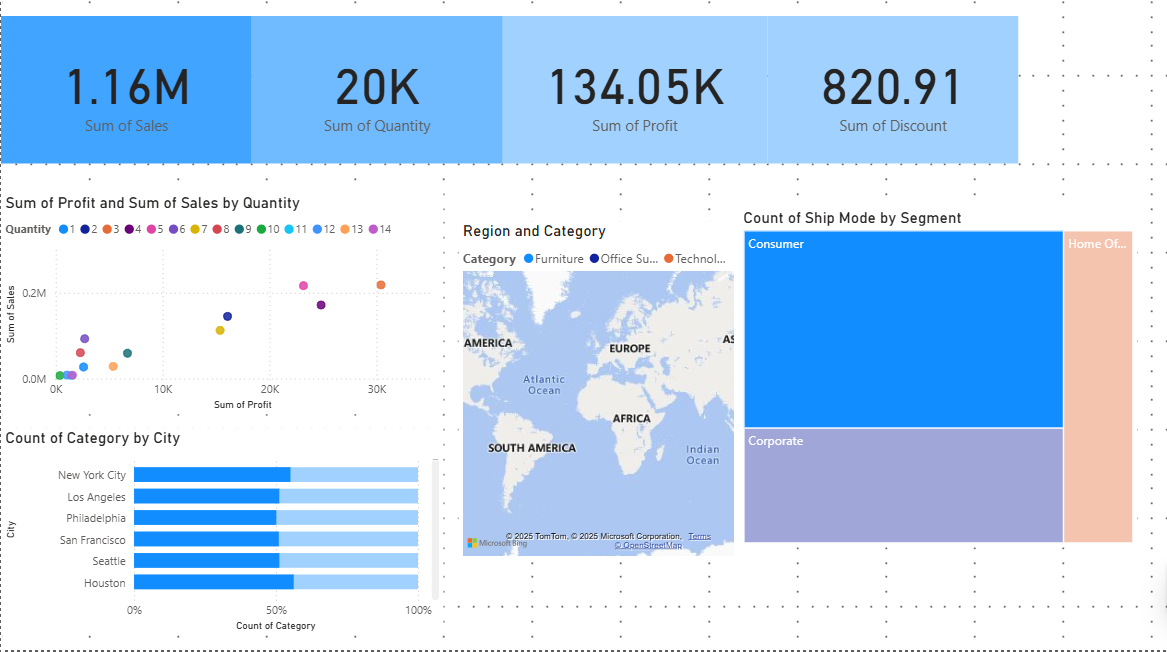

This screenshot's page, from the dashboard's own definition file:
{"tool":"powerbi","page":{"name":"Page 1","canvas":[1280,720],"ordinal":0},"visuals":[{"type":"card","fields":{"Values":["Sum(SampleSuperstore.Sales)"]},"box":[0,32,272,160],"z":0},{"type":"card","fields":{"Values":["Sum(SampleSuperstore.Profit)"]},"box":[544,32,288,160],"z":1},{"type":"card","fields":{"Values":["Sum(SampleSuperstore.Discount)"]},"box":[832,32,272,160],"z":2},{"type":"card","fields":{"Values":["Sum(SampleSuperstore.Quantity)"]},"box":[272,32,272,160],"z":3},{"type":"scatterChart","fields":{"X":["Sum(SampleSuperstore.Profit)"],"Y":["Sum(SampleSuperstore.Sales)"],"Series":["SampleSuperstore.Quantity"]},"box":[0,224,480,240],"z":4},{"type":"hundredPercentStackedBarChart","fields":{"Y":["CountNonNull(SampleSuperstore.Category)"],"Category":["SampleSuperstore.City"]},"box":[0,480,480,224],"z":5},{"type":"filledMap","fields":{"Category":["SampleSuperstore.Region"],"Series":["SampleSuperstore.Category"]},"box":[496,256,304,368],"z":6},{"type":"treemap","fields":{"Group":["SampleSuperstore.Segment"],"Values":["CountNonNull(SampleSuperstore.Ship Mode)","select"]},"box":[800,240,432,368],"z":7}]}

Visuals, with their boxes in screenshot pixels (x1, y1, x2, y2), scaled from the page's 1280x720 canvas onto the 1167x652 screenshot:
card - Sum(SampleSuperstore.Sales): select_region(0, 29, 248, 174)
card - Sum(SampleSuperstore.Profit): select_region(496, 29, 759, 174)
card - Sum(SampleSuperstore.Discount): select_region(759, 29, 1007, 174)
card - Sum(SampleSuperstore.Quantity): select_region(248, 29, 496, 174)
scatterChart - Sum(SampleSuperstore.Profit) x Sum(SampleSuperstore.Sales): select_region(0, 203, 438, 420)
hundredPercentStackedBarChart - CountNonNull(SampleSuperstore.Category) x SampleSuperstore.City: select_region(0, 435, 438, 638)
filledMap - SampleSuperstore.Region x SampleSuperstore.Category: select_region(452, 232, 729, 565)
treemap - SampleSuperstore.Segment x CountNonNull(SampleSuperstore.Ship Mode): select_region(729, 217, 1123, 551)
